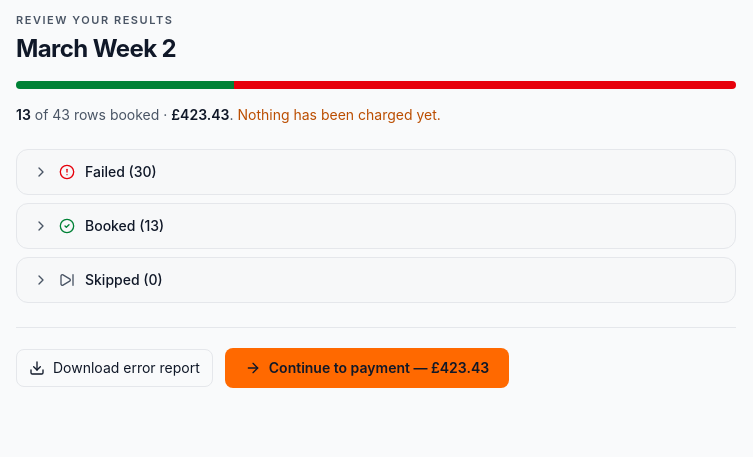
Test: a section closes again when its header is pressed
What coordinates should you click on to do the following:
click the button "Failed (30)"
I would click on:
 (105, 171)
Its box is 17,150 -> 735,194.
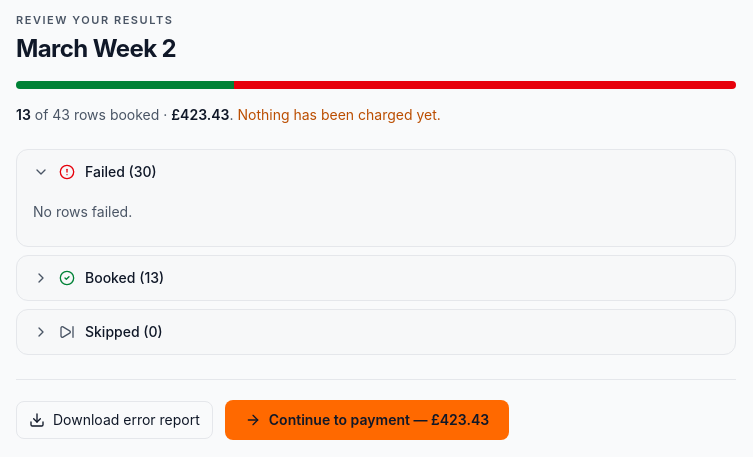
Now the button "Failed (30)" is expanded
What coordinates should you click on to do the following:
click the button "Failed (30)"
I would click on:
 (105, 171)
Its box is 17,150 -> 735,194.
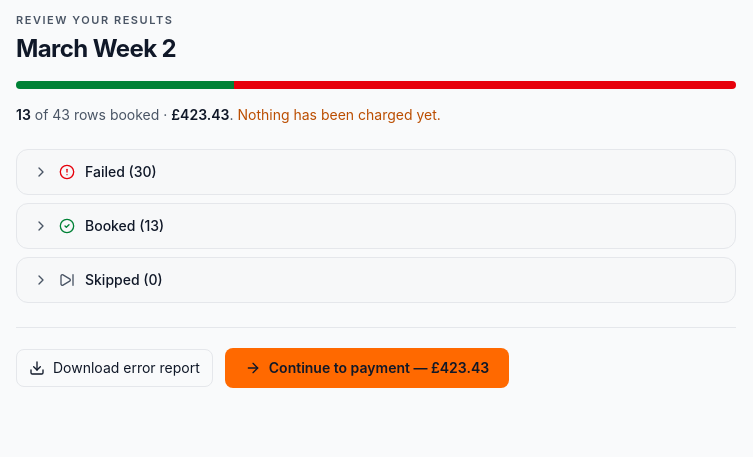
Now the button "Failed (30)" is collapsed, box 17,150 -> 735,194
